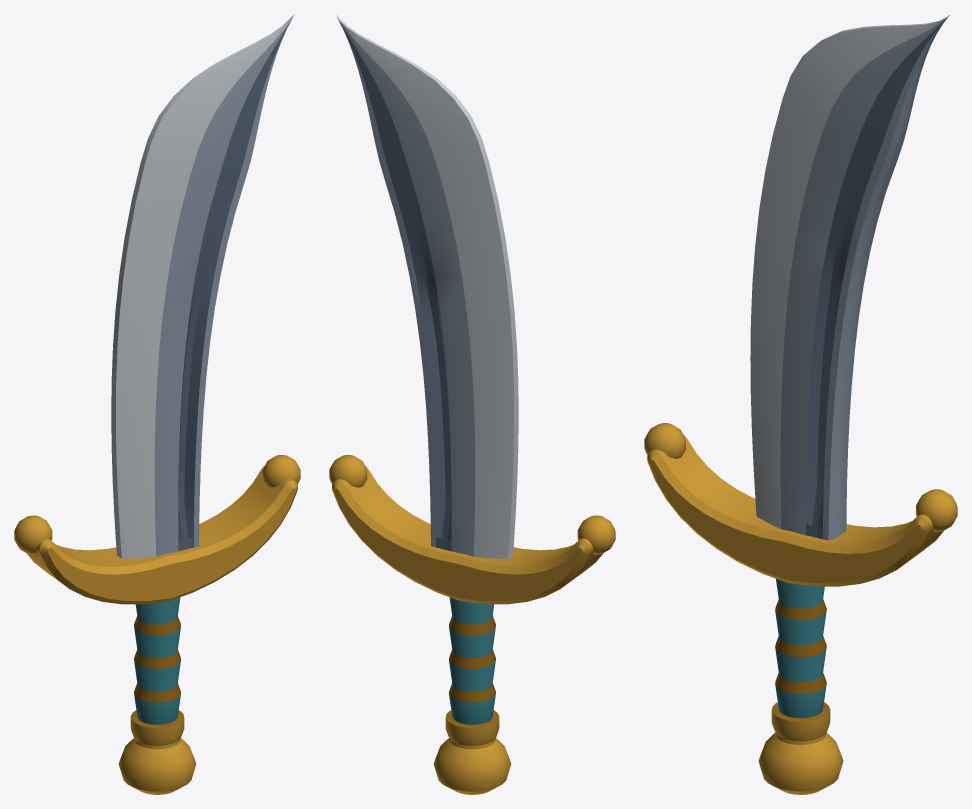
Rendered from Scimitar_07.glb.
The picture shows the model from 3 angles, left to right: view 1: azimuth 30°, elevation 25°; view 2: azimuth 150°, elevation 25°; view 3: azimuth 330°, elevation 25°; orthographic projection. The views are drawn at different scales.
Parts seen in each view (by area): view 1: Scimitar_07; view 2: Scimitar_07; view 3: Scimitar_07.
Boxes of the visible parts, <box> form: Scimitar_07: <box>14,15,300,794</box>; Scimitar_07: <box>329,15,615,794</box>; Scimitar_07: <box>644,15,957,794</box>.
Size of the model in its own units: 2.49 by 6.24 by 0.594.
